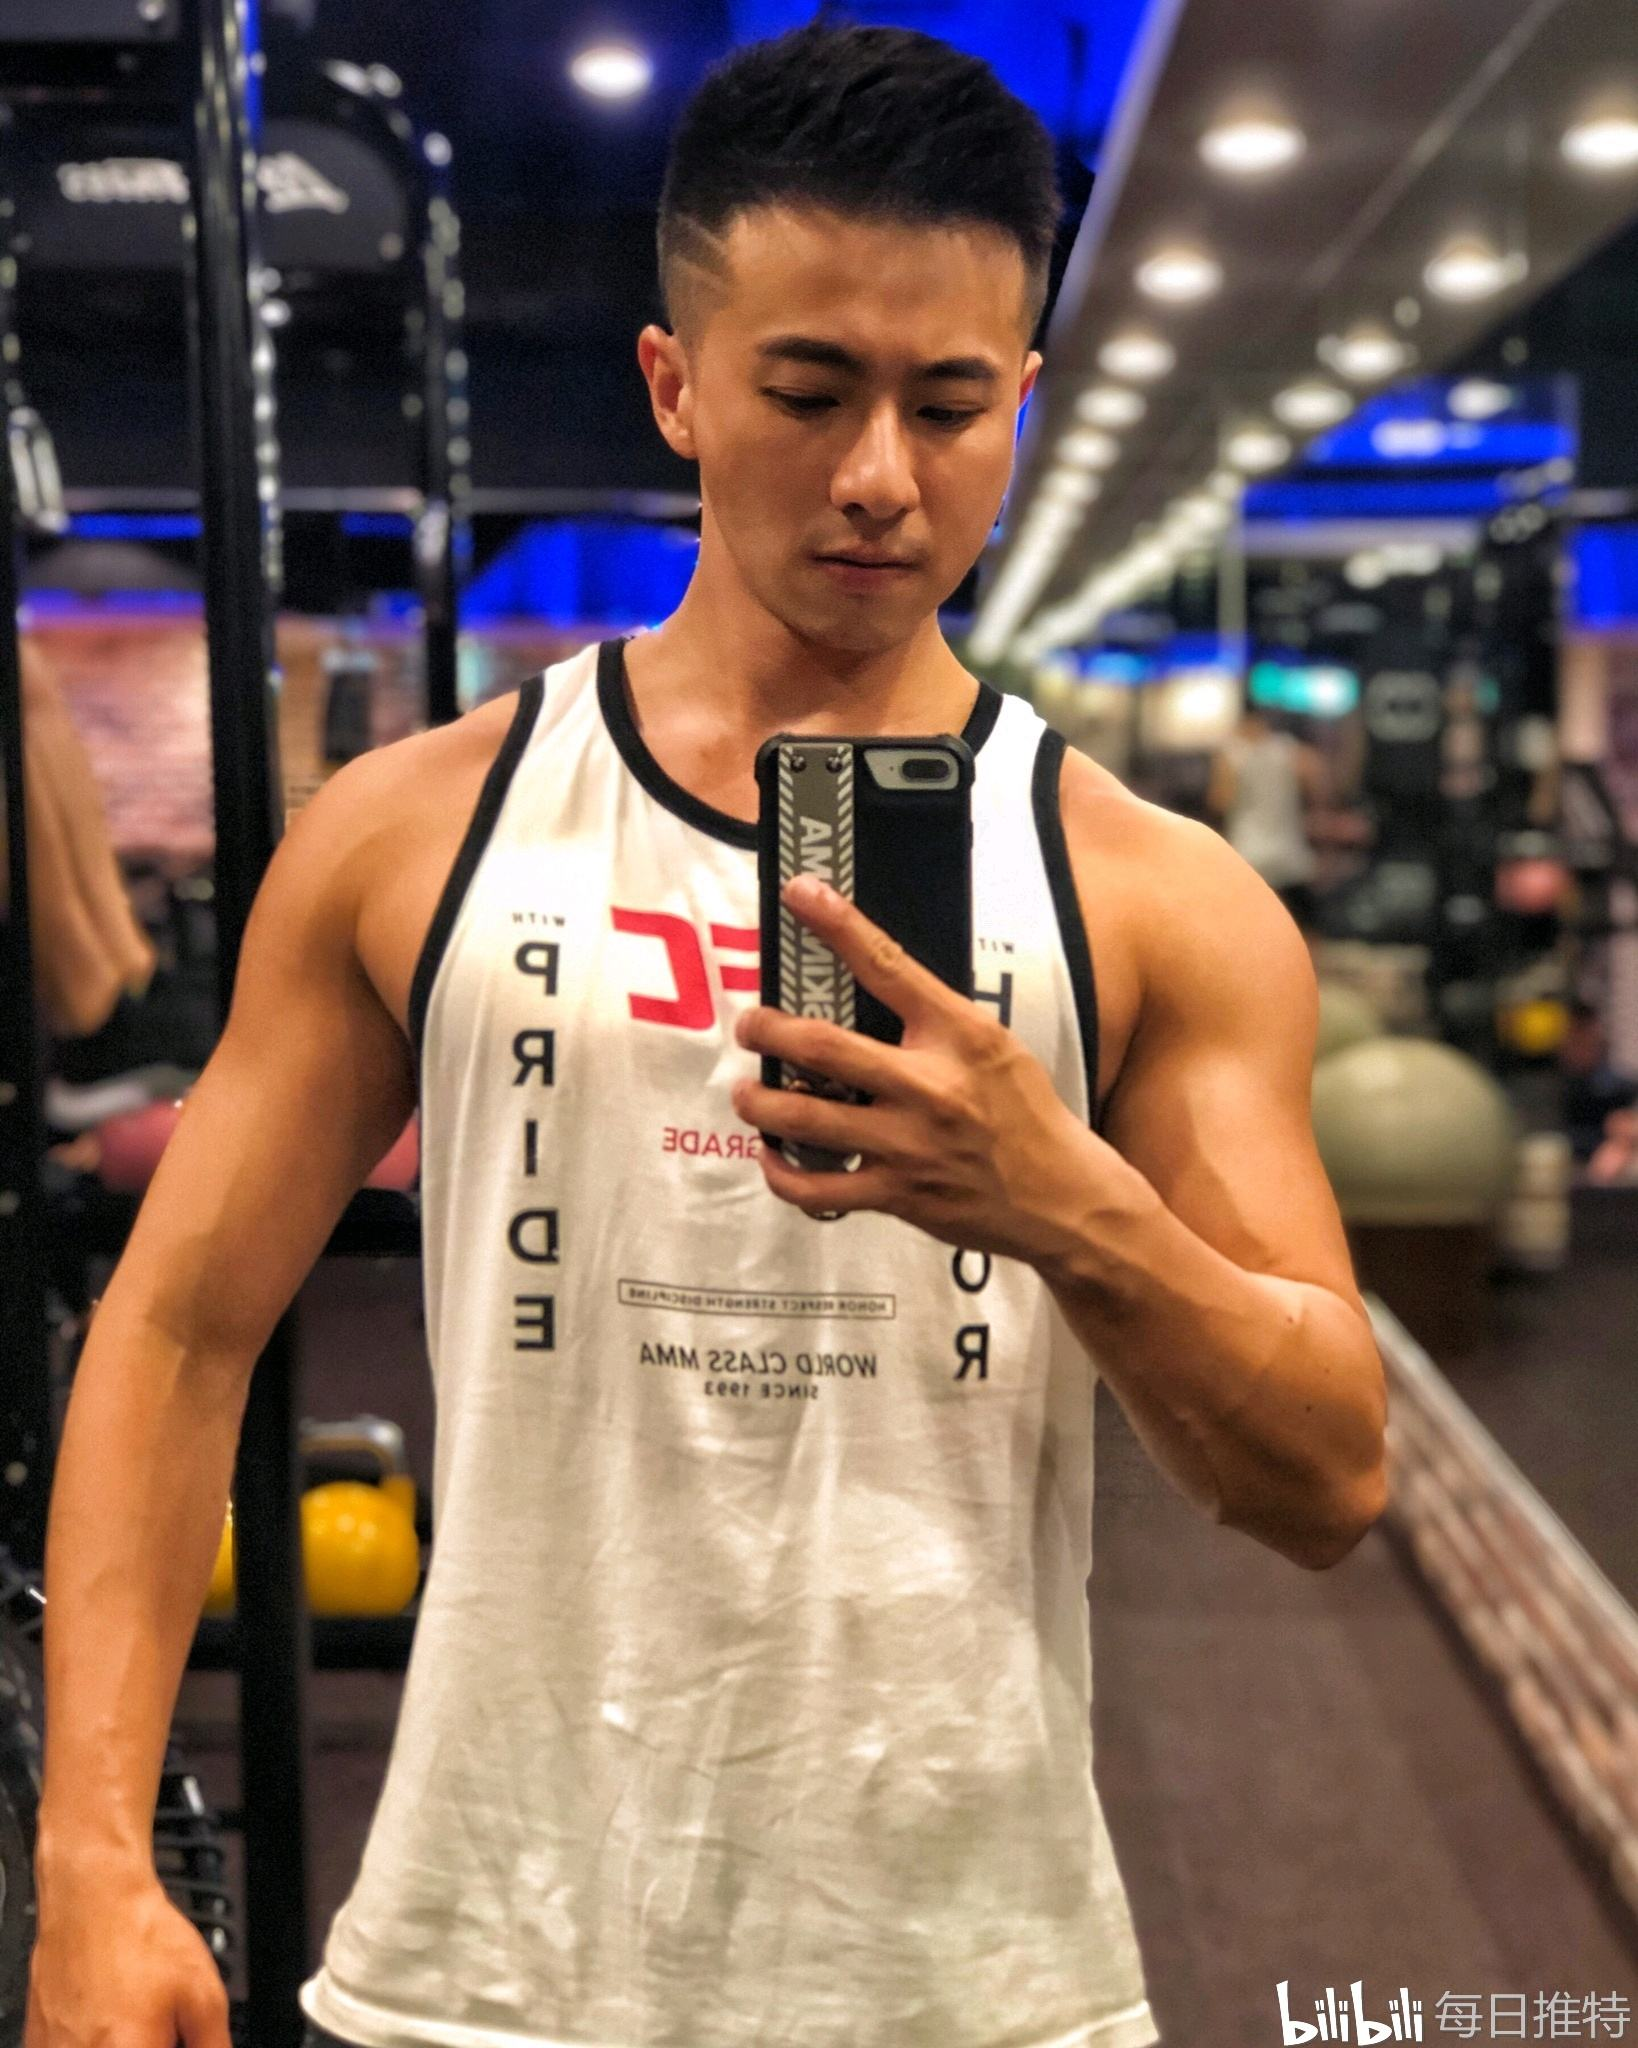person: (353, 67, 1440, 1956)
